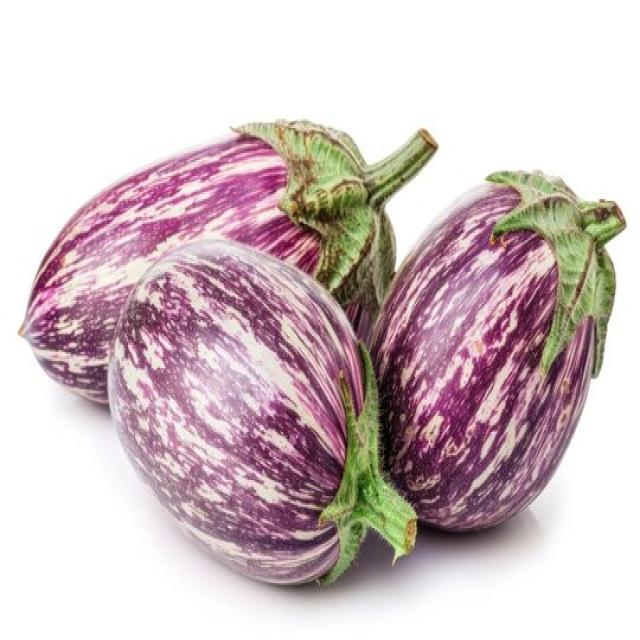Eggplant: (25, 112, 446, 404), (106, 233, 417, 587), (362, 167, 626, 533)
